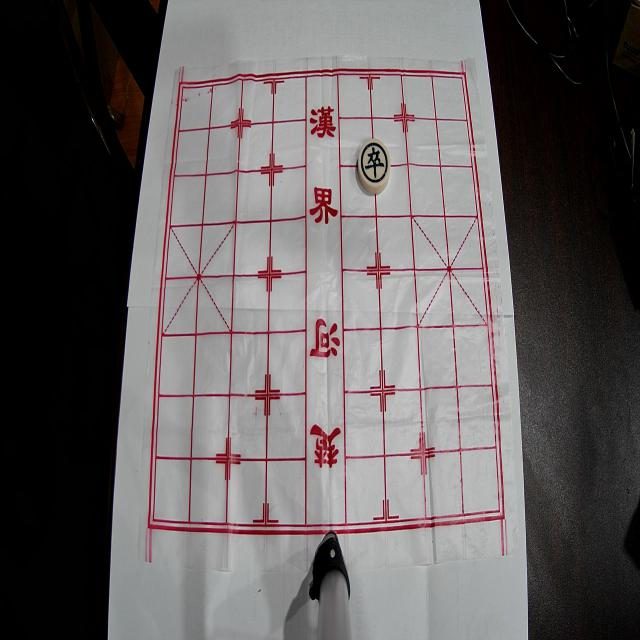black-soldier: (358, 138, 390, 194)
